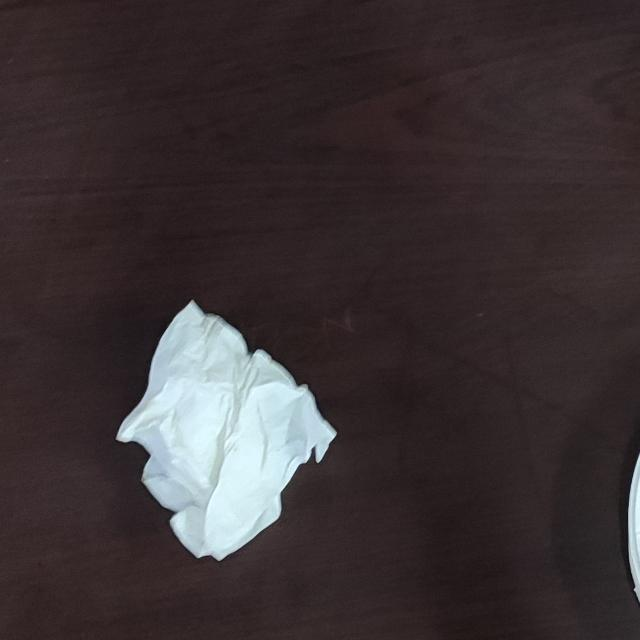kitchen paper: (115, 296, 340, 564)
